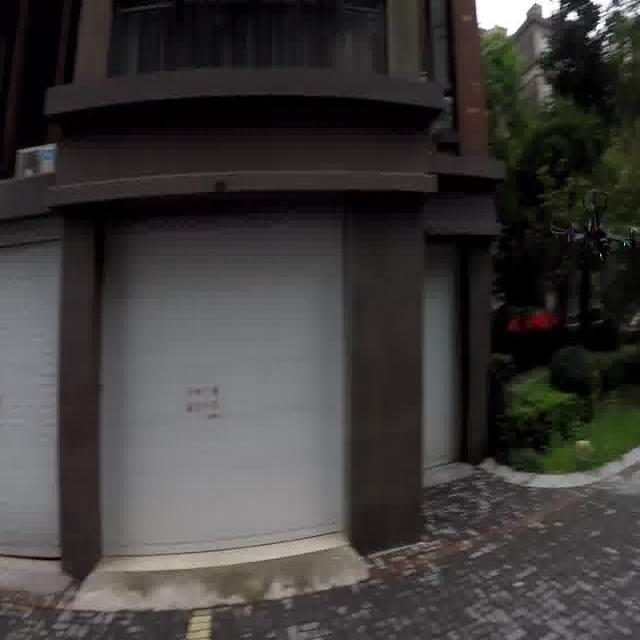drone: (545, 182, 637, 292)
